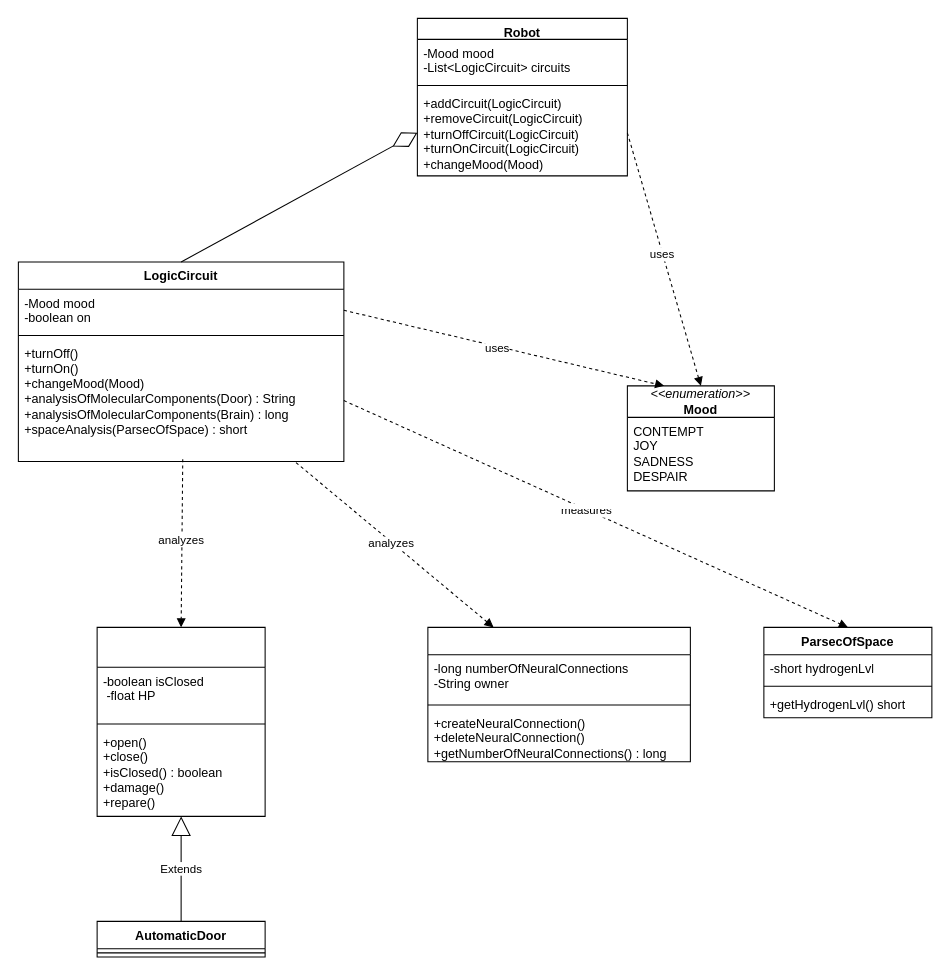
The diagram is 950 pixels wide and 975 high, and some of its shapes have lost their labels. Each missing label, with the box of its shape:
<<abstract>> Door: (96, 626, 265, 816)
Brain: (427, 626, 690, 762)
